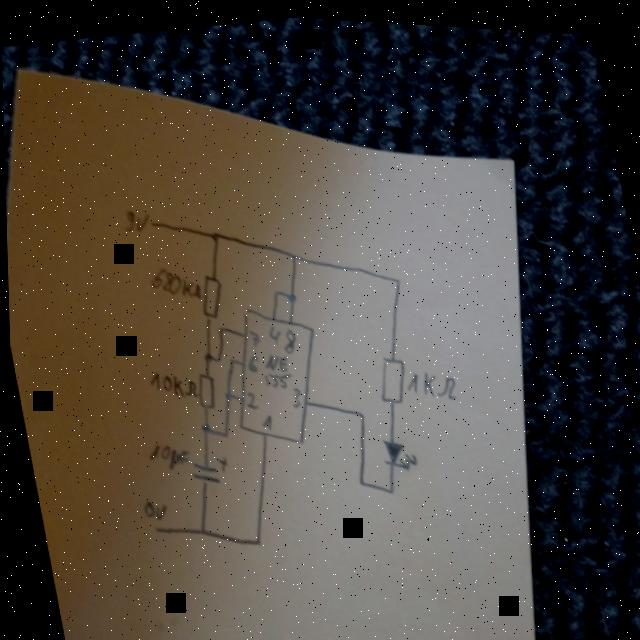capacitor: (187, 451, 229, 491)
diode: (377, 430, 417, 470)
junction: (200, 348, 212, 362), (284, 286, 296, 300), (197, 419, 209, 433), (208, 227, 220, 240), (194, 523, 206, 535), (287, 248, 298, 259), (220, 387, 230, 399), (391, 270, 401, 282), (383, 480, 393, 492), (270, 284, 279, 296), (250, 533, 259, 544), (354, 405, 363, 416), (354, 472, 363, 483), (225, 351, 233, 363), (219, 425, 227, 437), (214, 322, 223, 332), (212, 352, 219, 361)
resistor: (371, 347, 409, 402), (194, 269, 225, 320), (192, 369, 216, 408)
terminal: (148, 521, 158, 534), (146, 218, 156, 228)
text: (146, 261, 200, 304), (402, 359, 457, 401), (145, 364, 198, 404), (144, 436, 190, 471), (257, 347, 293, 388), (118, 205, 150, 234), (138, 495, 165, 522), (279, 324, 297, 352), (264, 319, 281, 342), (286, 382, 302, 405), (241, 387, 258, 408), (243, 350, 258, 371), (246, 325, 259, 345), (258, 410, 272, 428)
